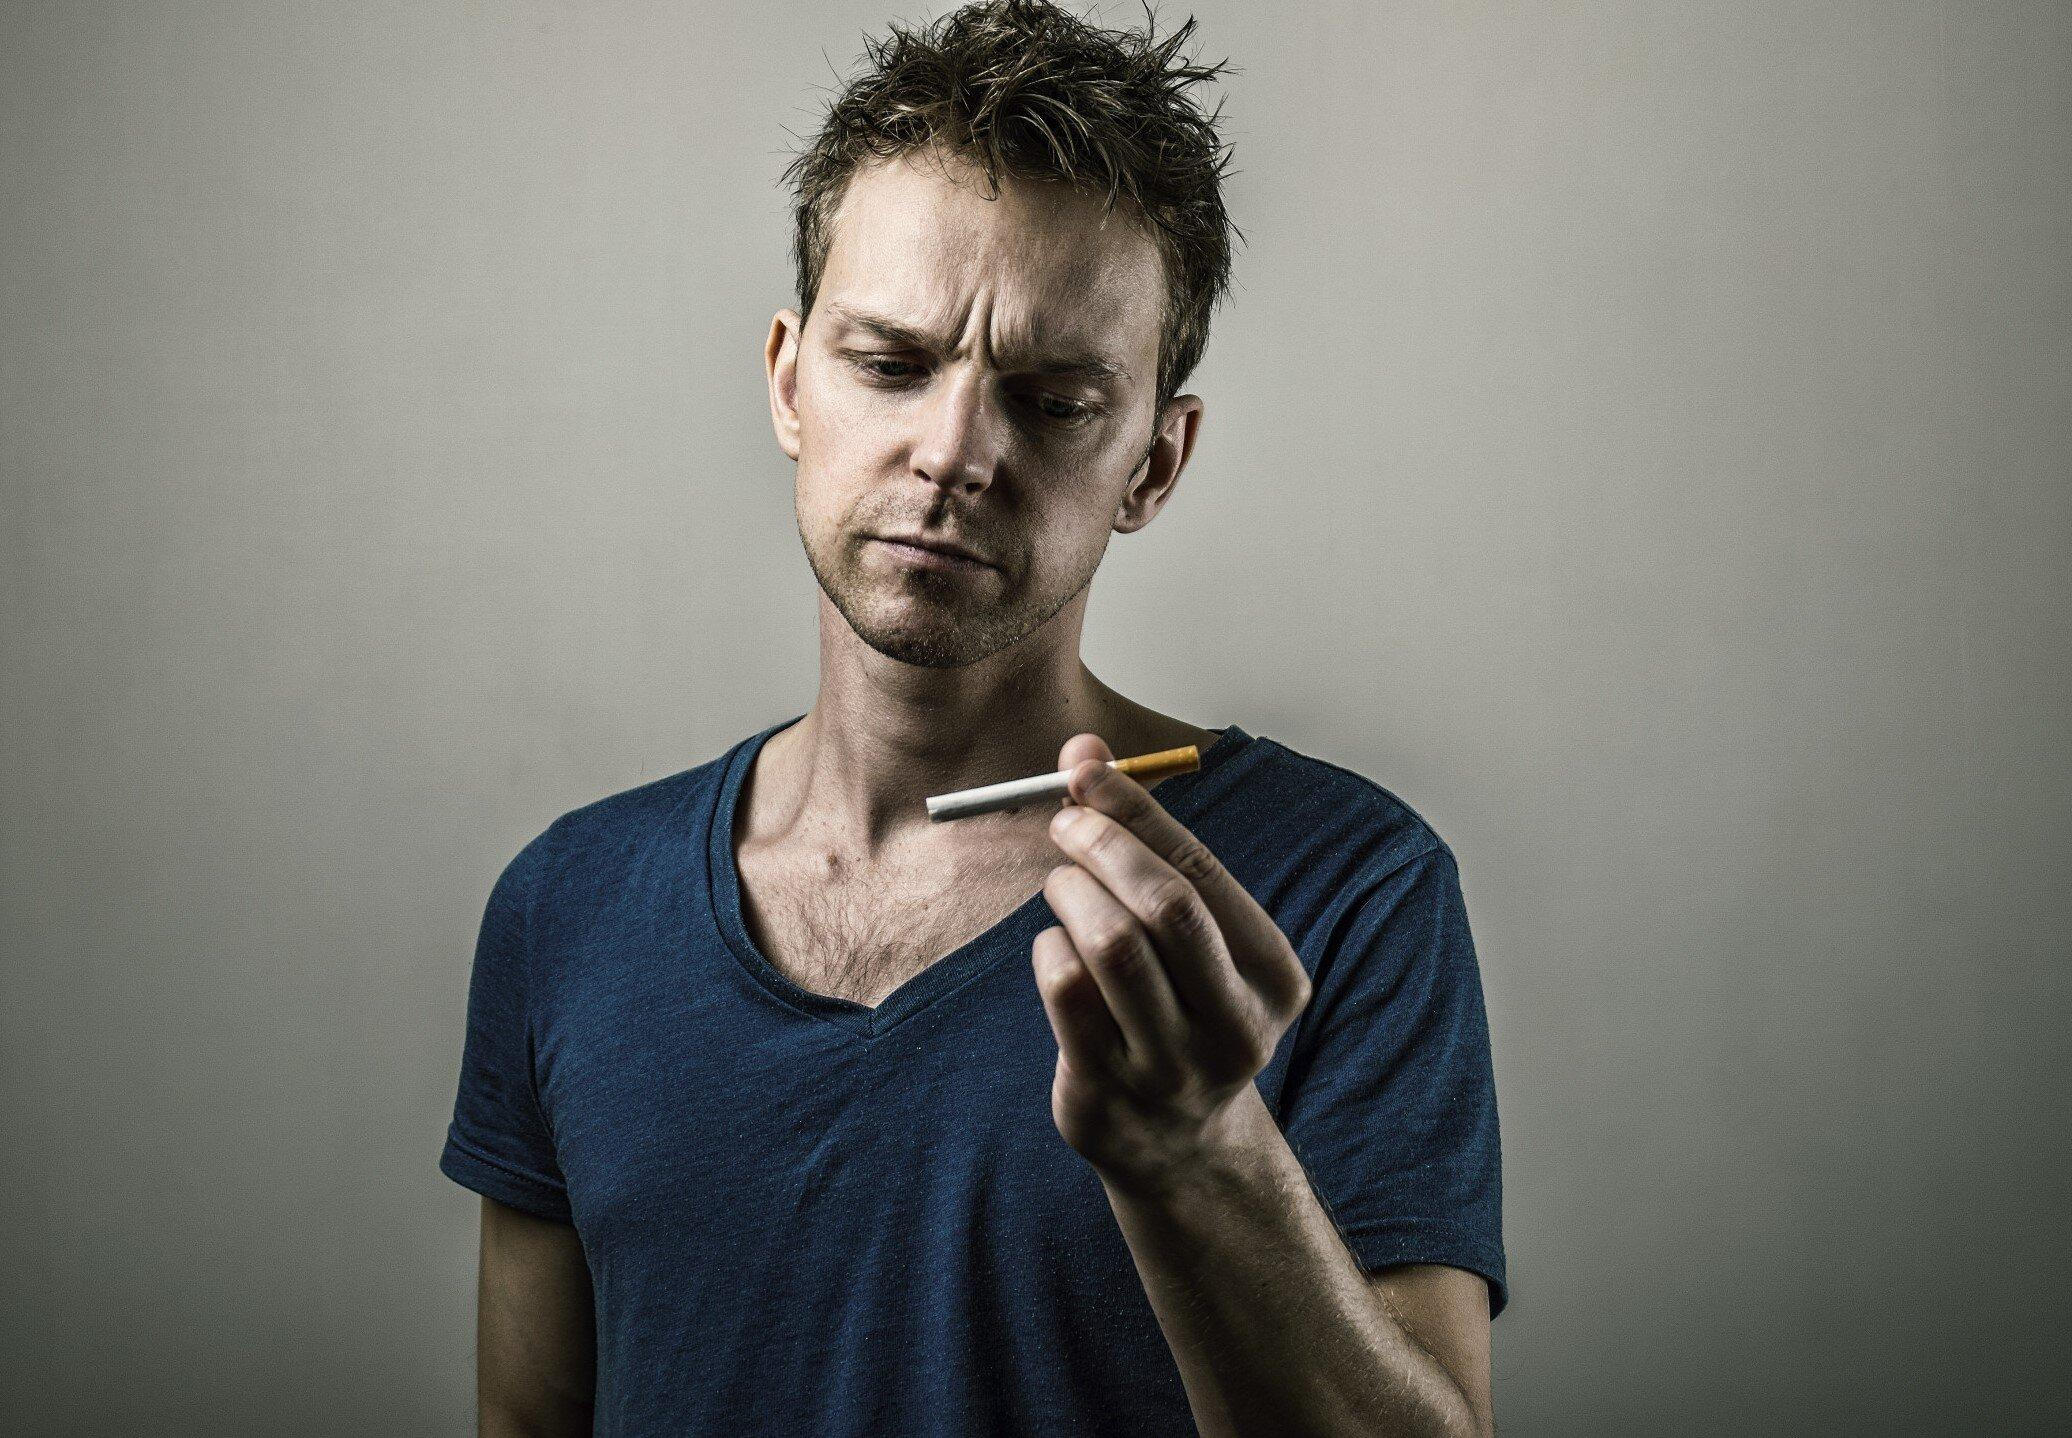cigarette: (924, 745, 1203, 824)
